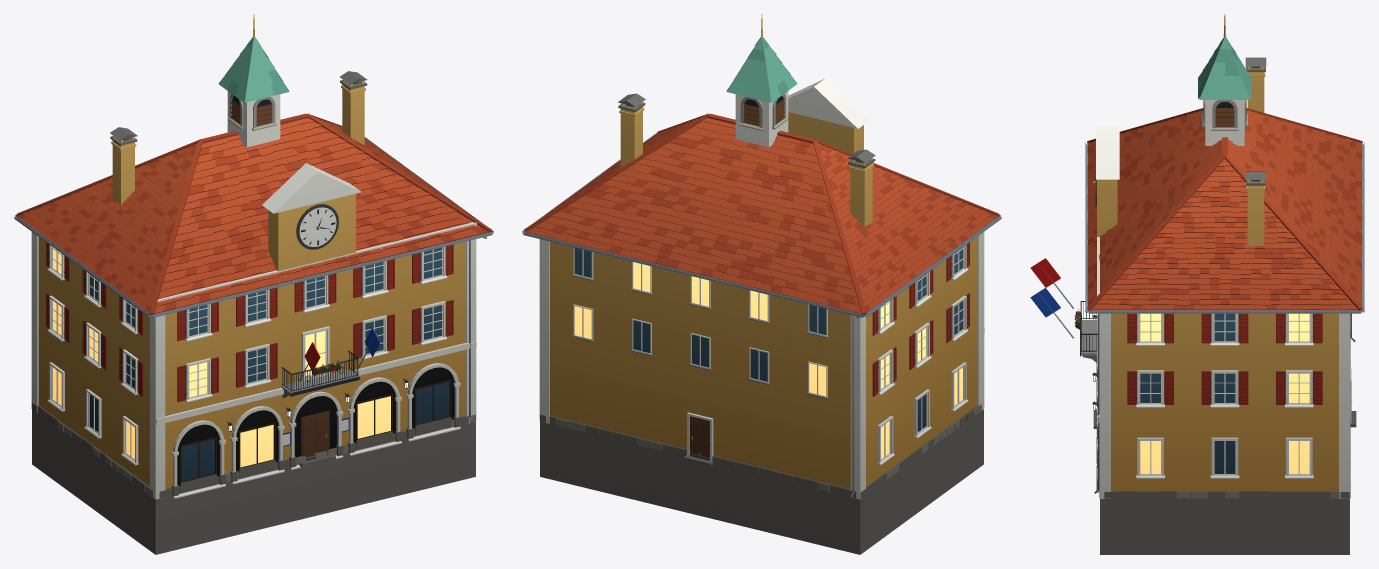
The model's file is TownHall.fbx.
The picture shows the model from 3 angles, left to right: view 1: azimuth 30°, elevation 25°; view 2: azimuth 150°, elevation 25°; view 3: azimuth 270°, elevation 25°; orthographic projection.
Visible parts, largest first — view 1: TownHall_LOD0; view 2: TownHall_LOD0; view 3: TownHall_LOD0.
Boxes of the visible parts, x1,y1,x2,y2 form: TownHall_LOD0: (14, 14, 493, 554); TownHall_LOD0: (522, 14, 1001, 554); TownHall_LOD0: (1030, 14, 1364, 554).
Size of what is drawn, in the model's own units: 19.52 by 24.69 by 16.18.
Materials: 1 (1 with a texture image).
